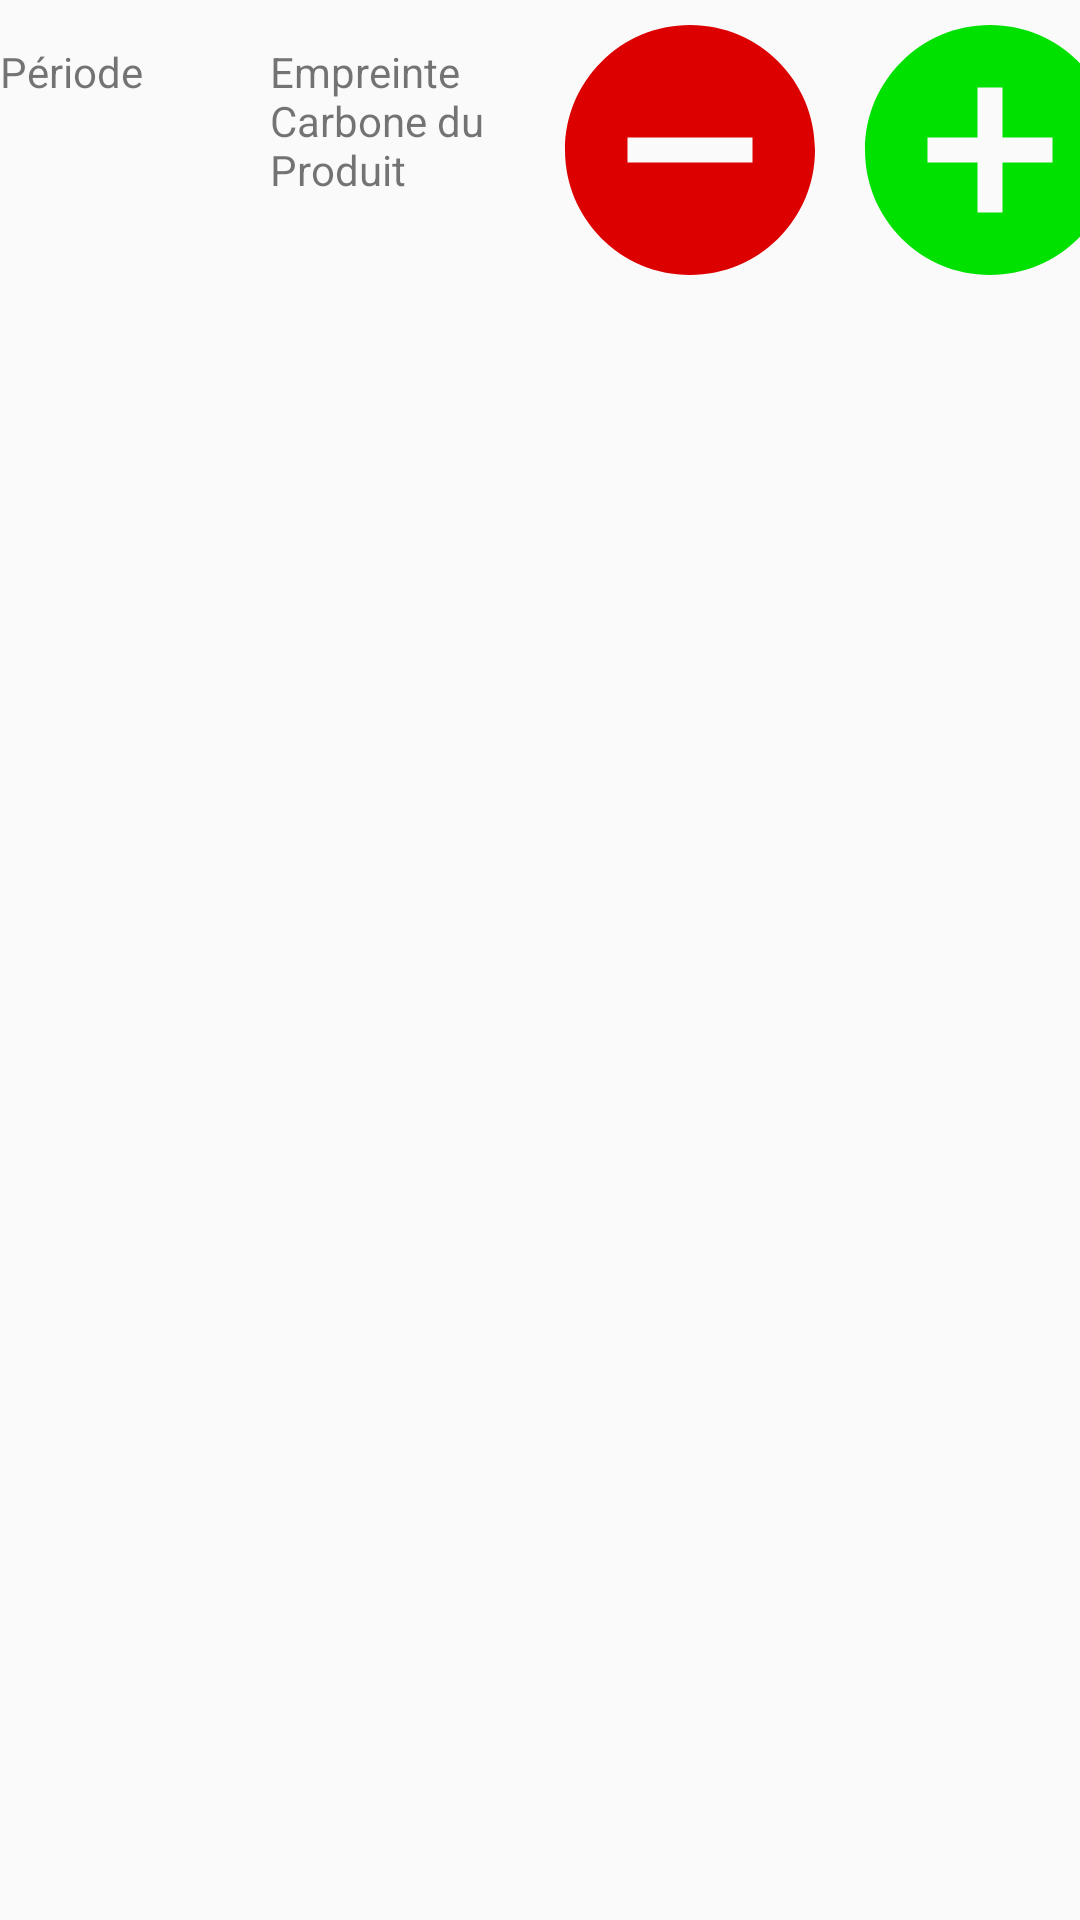

Named icons in this screenshot (1080 × 1920) and their centers, point (x, y):
iconeminus: point (690, 150)
